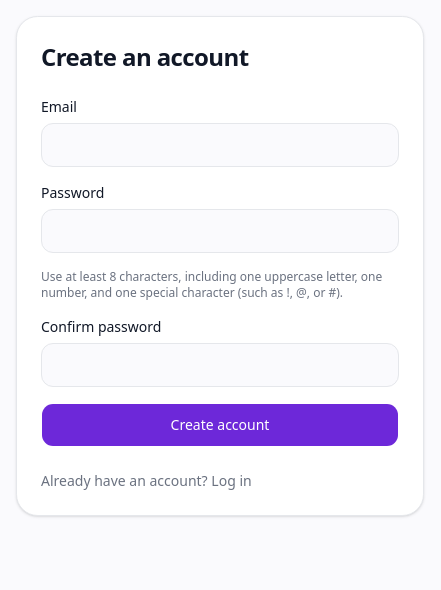
Scenario: registration form › shows delivery errors and permits a retry
Type "person@example.com" into the field labelled "Email" at coordinates (220, 145), box [41,123,399,167]
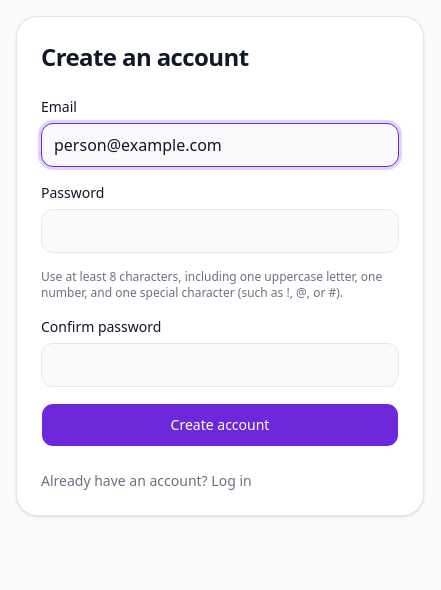
Type "Test-password1!" into the password field labelled "Password" at coordinates (220, 231), box [41,209,399,253]
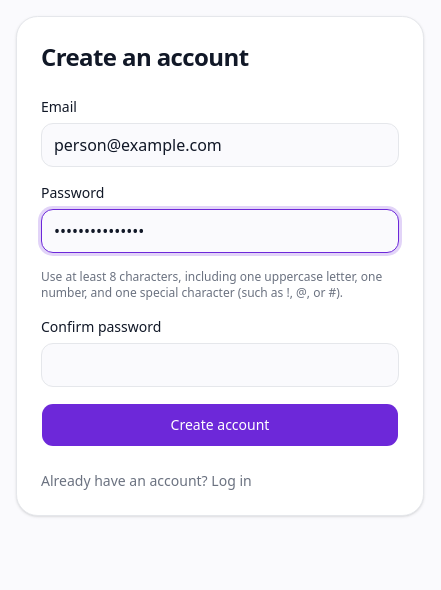
Type "Test-password1!" into the password field labelled "Confirm password" at coordinates (220, 365), box [41,343,399,387]
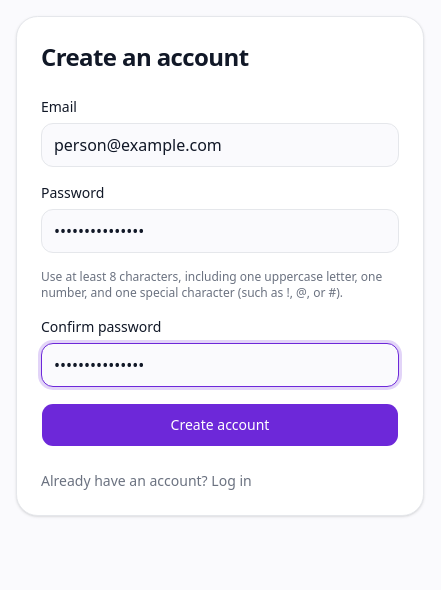
Click the button "Create account" at coordinates (220, 425), box [41,403,399,447]
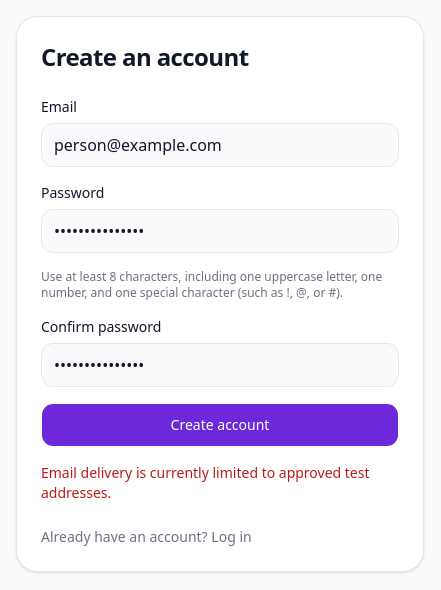
Expected: the message shows "approved test addresses", [41,463,370,502]
